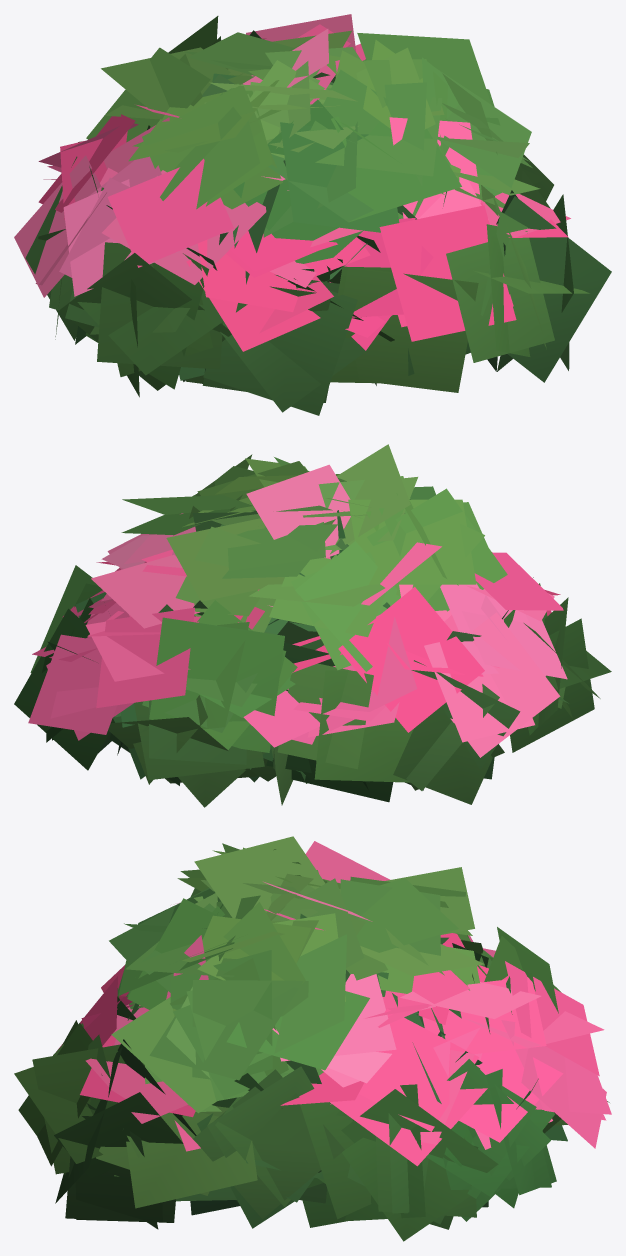
File: tree-village-bush-azalea-v0.glb
3 views of the same model, one above another, from view 1: azimuth 30°, elevation 25°; view 2: azimuth 150°, elevation 25°; view 3: azimuth 270°, elevation 25° (orthographic). The views are drawn at different scales.
Parts seen in each view (by area): view 1: cards_round, cards_sakura; view 2: cards_round, cards_sakura; view 3: cards_round, cards_sakura.
Part boxes in pixels (x1,y1,x2,y2): cards_round: (25, 16, 611, 415); cards_sakura: (14, 14, 570, 351); cards_round: (14, 444, 611, 807); cards_sakura: (28, 464, 567, 757); cards_round: (14, 836, 609, 1241); cards_sakura: (56, 841, 611, 1166).
Size of the model in its own units: 2.11 by 1.11 by 2.2.
